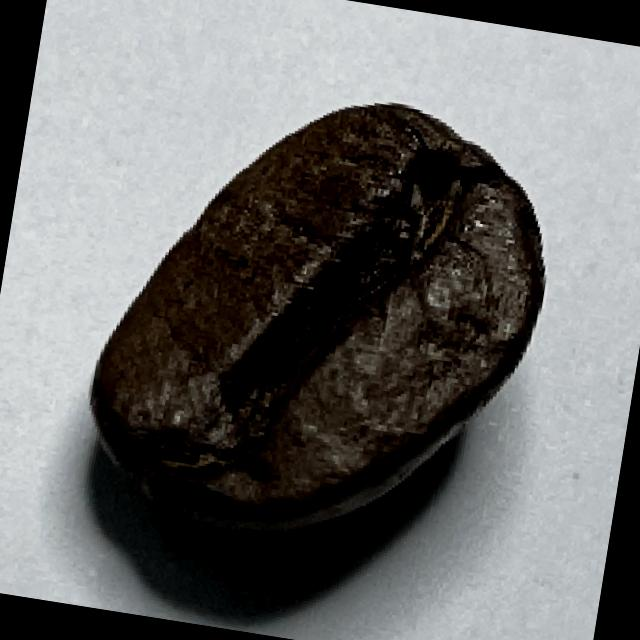bean: (75, 61, 572, 572)
